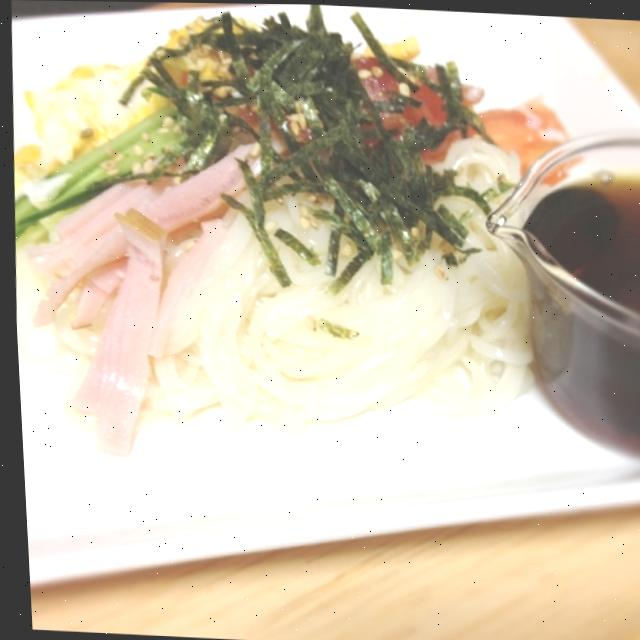猪肉菜式: (5, 125, 640, 628)
